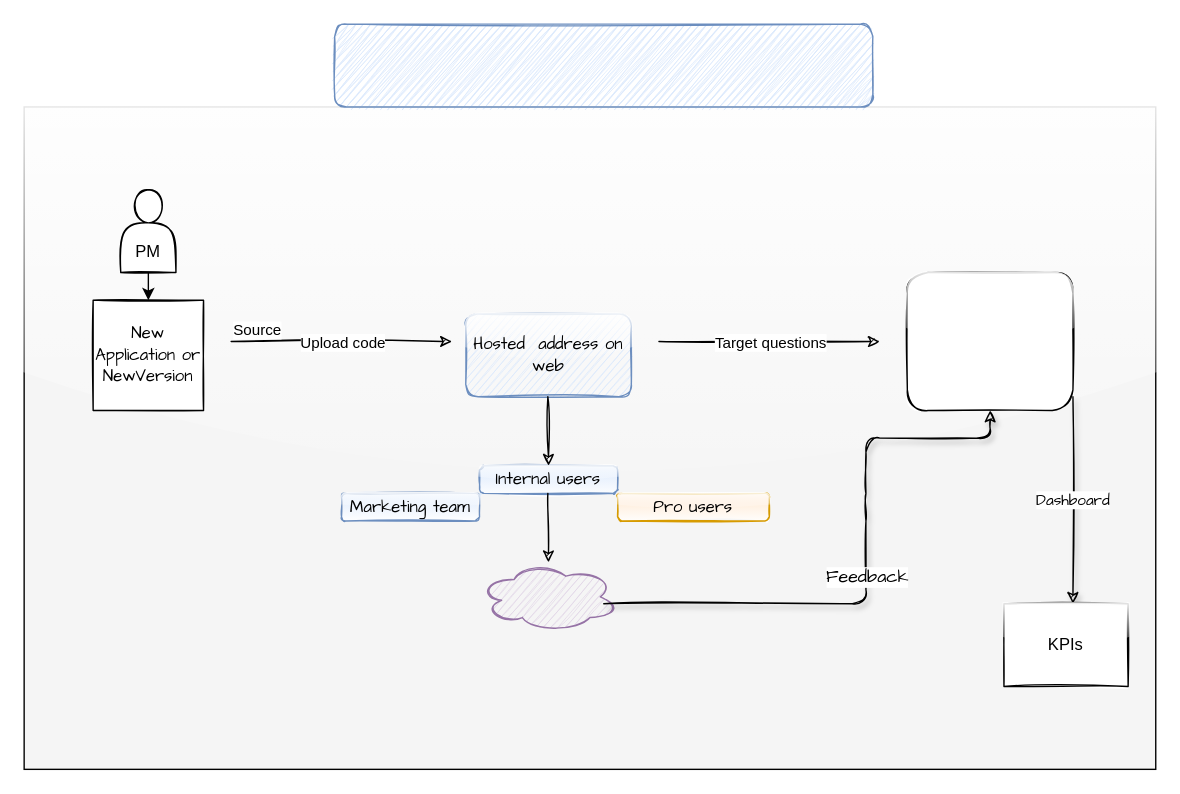
Image size: 1180x794. Some labels were removed from this diagram. The shapes that lost their labels are listed below. From the top down, each one's centre as x and y in pixels, then its label:
the point at 603,65: BeeTesting-AB Testing for enterprises
the point at 989,341: Example: 1. How is the new layout? 2.New feature to customize your chart
the point at 548,596: Testing
